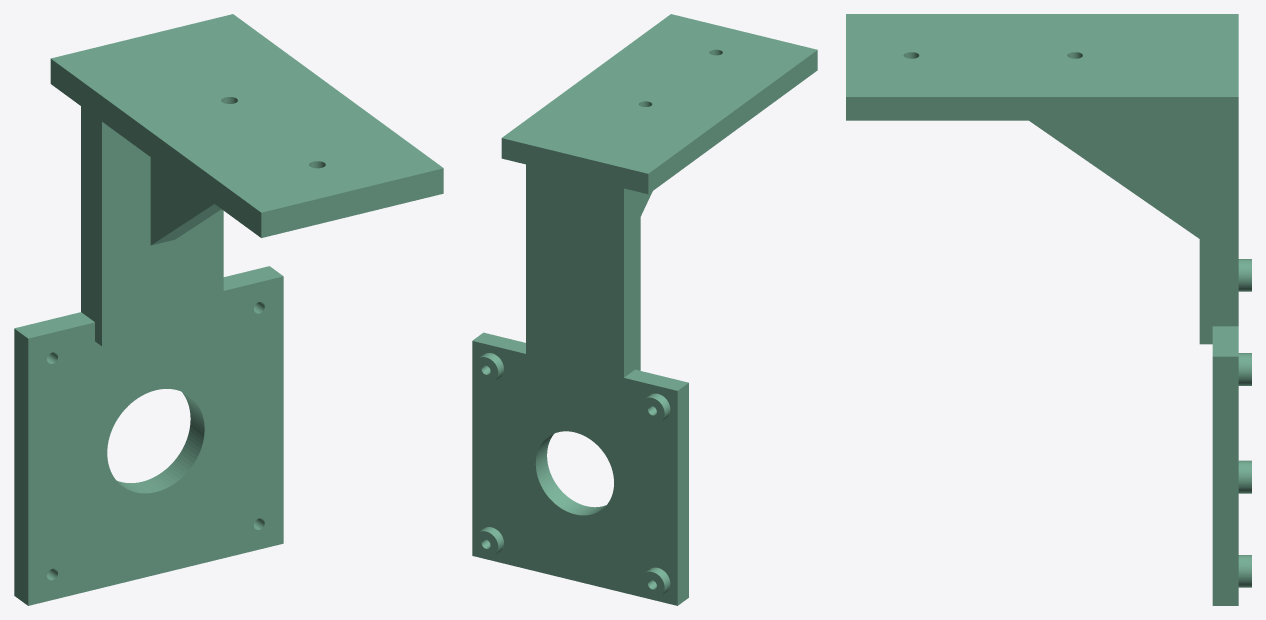
The picture shows the model from 3 angles, left to right: view 1: azimuth 30°, elevation 25°; view 2: azimuth 150°, elevation 25°; view 3: azimuth 270°, elevation 25°; orthographic projection. The views are drawn at different scales.
Parts seen in each view (by area): view 1: W18_camera_arm; view 2: W18_camera_arm; view 3: W18_camera_arm.
Part boxes in pixels (x1,y1,x2,y2): W18_camera_arm: (14,14,443,605); W18_camera_arm: (472,14,817,605); W18_camera_arm: (846,14,1251,605).
Bounding box in the file's own units: 42 × 83 × 62.
